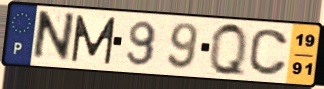9: (165, 20, 200, 72), (126, 19, 158, 69)
C: (247, 27, 290, 78)
M: (69, 13, 118, 66)
N: (29, 9, 78, 64)
Q: (209, 20, 249, 80)
